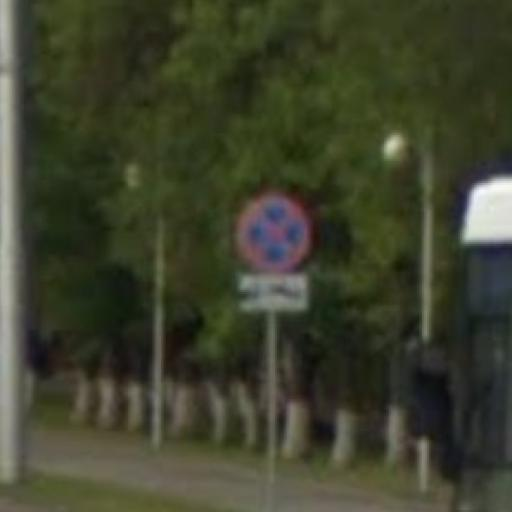traffic_sign: (233, 193, 314, 275)
